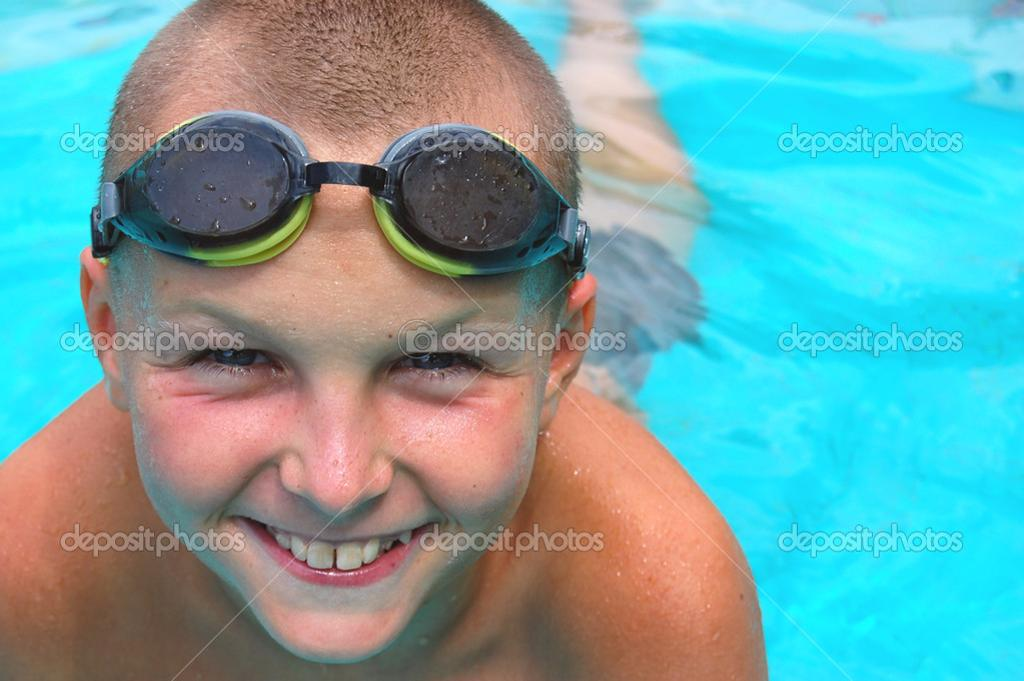face: (118, 126, 552, 668)
